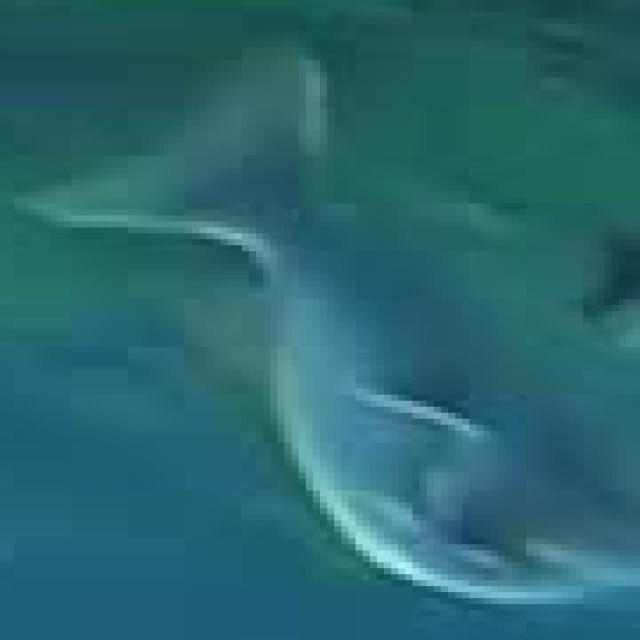fish: (0, 0, 633, 634)
